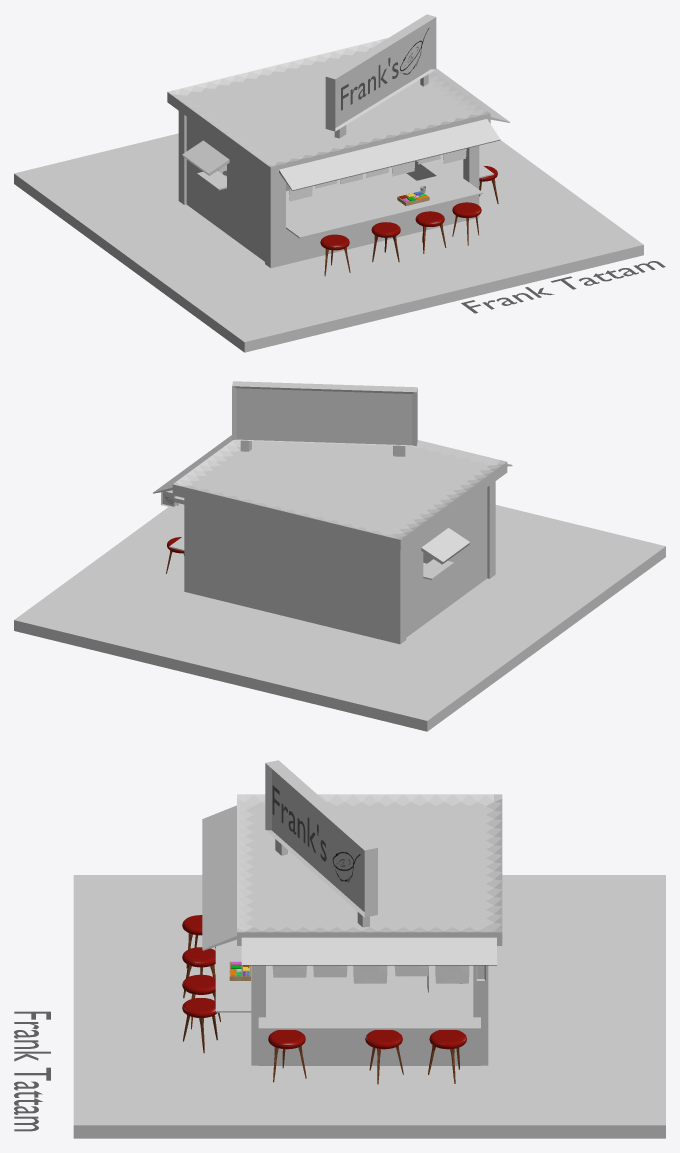
The model's file is ramenShop.glb.
3 views of the same model, one above another, from view 1: azimuth 30°, elevation 25°; view 2: azimuth 150°, elevation 25°; view 3: azimuth 270°, elevation 25° (orthographic). The views are drawn at different scales.
Visible parts, largest first — view 1: floor, celing, front wall, big board, left wall, right roof.001, right wall, Text.010, right roof.002, back wall, chair2, chair1 (+4 smaller); view 2: floor, celing, back wall, big board, left wall, right roof.002, front wall, right roof; view 3: floor, celing, right wall, big board, right roof, right roof.001, front wall, Text.010, back wall, chair7, chair5, chair6 (+6 smaller).
Boxes of the visible parts, x1=… form: floor: x1=14, y1=133, x2=643, y2=352; celing: x1=167, y1=38, x2=490, y2=177; front wall: x1=265, y1=145, x2=482, y2=268; big board: x1=325, y1=14, x2=436, y2=138; left wall: x1=186, y1=117, x2=264, y2=261; right roof.001: x1=279, y1=119, x2=500, y2=190; right wall: x1=406, y1=154, x2=493, y2=184; Text.010: x1=461, y1=261, x2=665, y2=313; right roof.002: x1=182, y1=140, x2=229, y2=175; back wall: x1=178, y1=111, x2=186, y2=204; chair2: x1=371, y1=222, x2=400, y2=262; chair1: x1=320, y1=234, x2=350, y2=276; floor: x1=14, y1=503, x2=665, y2=731; celing: x1=172, y1=440, x2=507, y2=550; back wall: x1=161, y1=490, x2=406, y2=644; big board: x1=232, y1=381, x2=417, y2=456; left wall: x1=406, y1=487, x2=487, y2=637; right roof.002: x1=421, y1=528, x2=470, y2=564; front wall: x1=423, y1=481, x2=495, y2=578; right roof: x1=153, y1=435, x2=232, y2=493; floor: x1=73, y1=875, x2=665, y2=1138; celing: x1=237, y1=794, x2=502, y2=945; right wall: x1=258, y1=965, x2=480, y2=1065; big board: x1=265, y1=760, x2=377, y2=927; right roof: x1=241, y1=937, x2=496, y2=965; right roof.001: x1=202, y1=805, x2=236, y2=950; front wall: x1=215, y1=939, x2=289, y2=1065; Text.010: x1=14, y1=1011, x2=50, y2=1131; back wall: x1=473, y1=965, x2=488, y2=1065; chair7: x1=428, y1=1030, x2=466, y2=1083; chair5: x1=268, y1=1030, x2=306, y2=1082; chair6: x1=365, y1=1030, x2=403, y2=1084.
Bounding box in the file's own units: 8 × 3.41 × 8.8.
14 materials, 3 textured.
